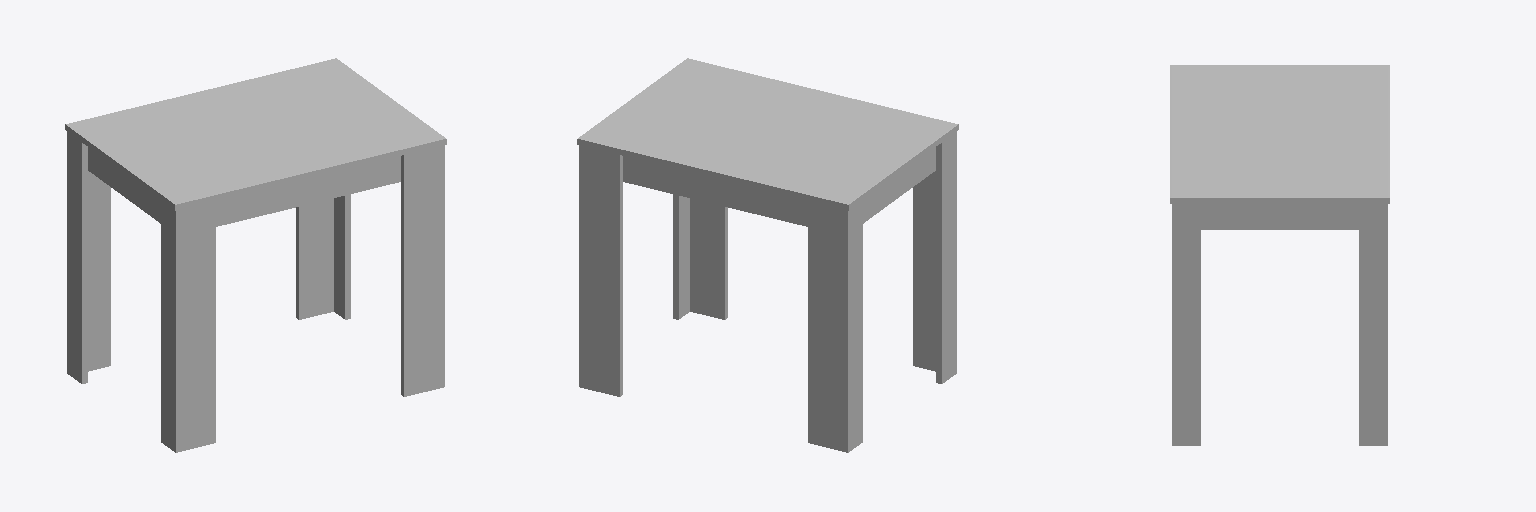
Rendered from TABLE.obj.
The picture shows the model from 3 angles: view 1: azimuth 30°, elevation 25°; view 2: azimuth 150°, elevation 25°; view 3: azimuth 270°, elevation 25°; orthographic projection.
Visible parts, largest first — view 1: Cube.019_Cube.069; view 2: Cube.019_Cube.069; view 3: Cube.019_Cube.069.
Boxes of the visible parts, x1=… form: Cube.019_Cube.069: x1=65, y1=58, x2=446, y2=452; Cube.019_Cube.069: x1=577, y1=58, x2=958, y2=452; Cube.019_Cube.069: x1=1170, y1=65, x2=1389, y2=445.
Bounding box in the file's own units: 0.8667 × 0.76 × 0.6088.